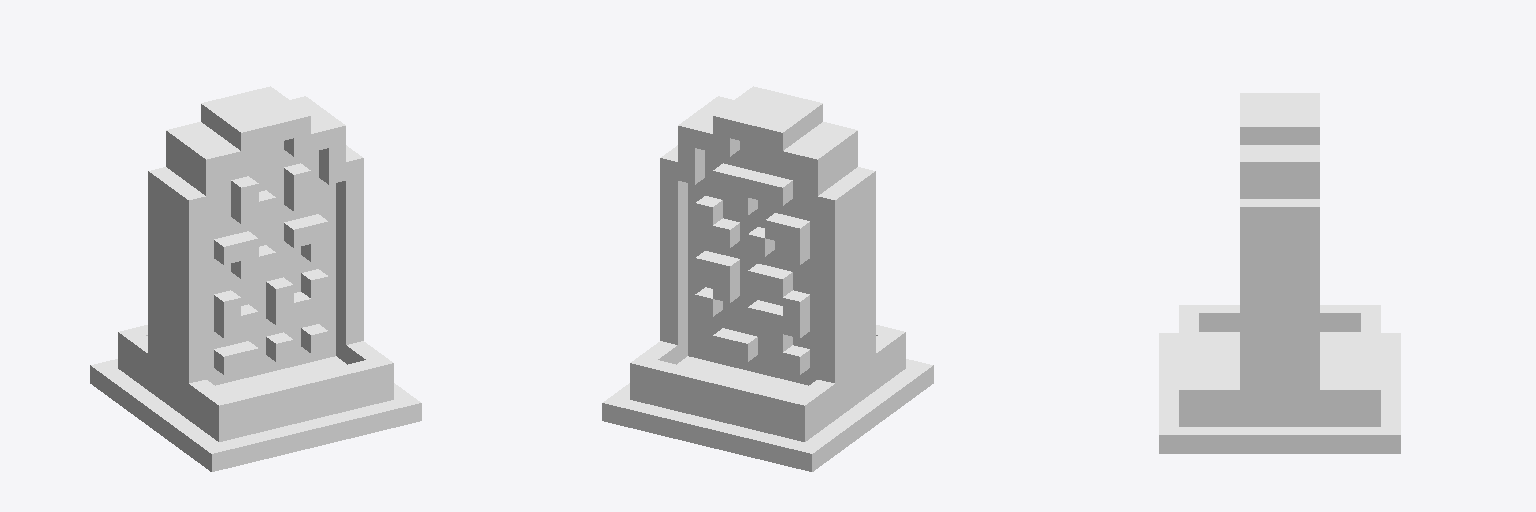
File: deco_8.obj
3 renders of one model, left to right at view 1: azimuth 30°, elevation 25°; view 2: azimuth 150°, elevation 25°; view 3: azimuth 270°, elevation 25°, orthographic.
Size of the model in its own units: 12 by 16 by 12.